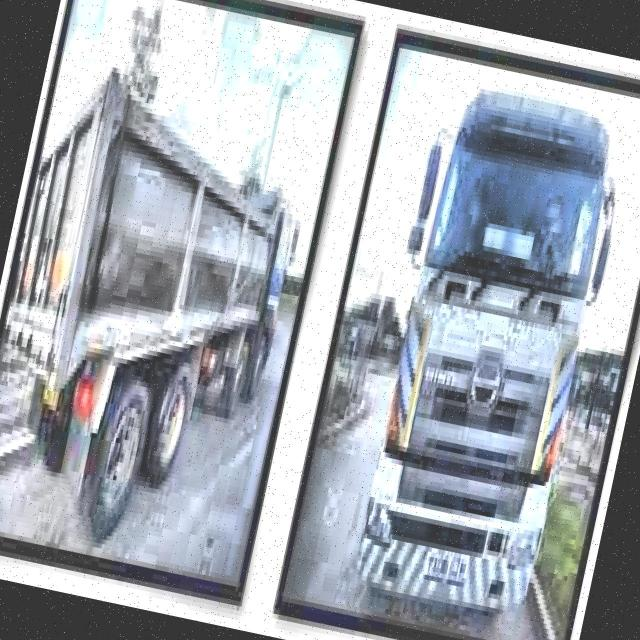dump_truck: (332, 72, 640, 634), (0, 52, 322, 580)
